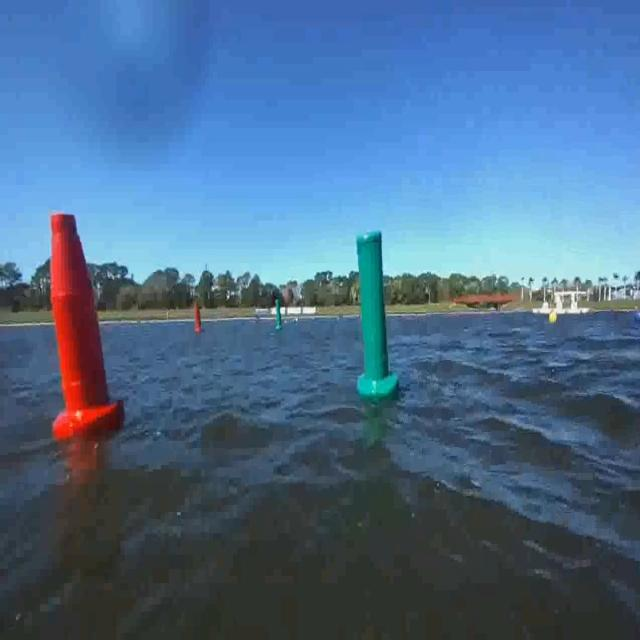blue-buoy: (634, 310, 640, 324)
green-column-buoy: (356, 231, 399, 400), (275, 301, 285, 334)
red-column-buoy: (49, 214, 125, 442), (195, 304, 204, 336)
yellow-buoy: (550, 311, 558, 325)
